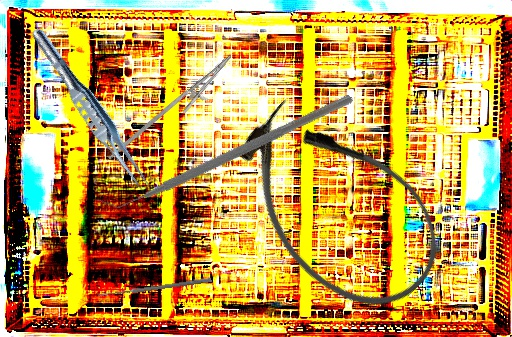Cannula: (209, 77, 466, 336)
Chopper: (94, 9, 355, 289)
Needle Holder: (106, 40, 242, 182)
Surgical Spoon: (97, 277, 212, 298)
Tissue Forceps: (23, 23, 159, 198)
